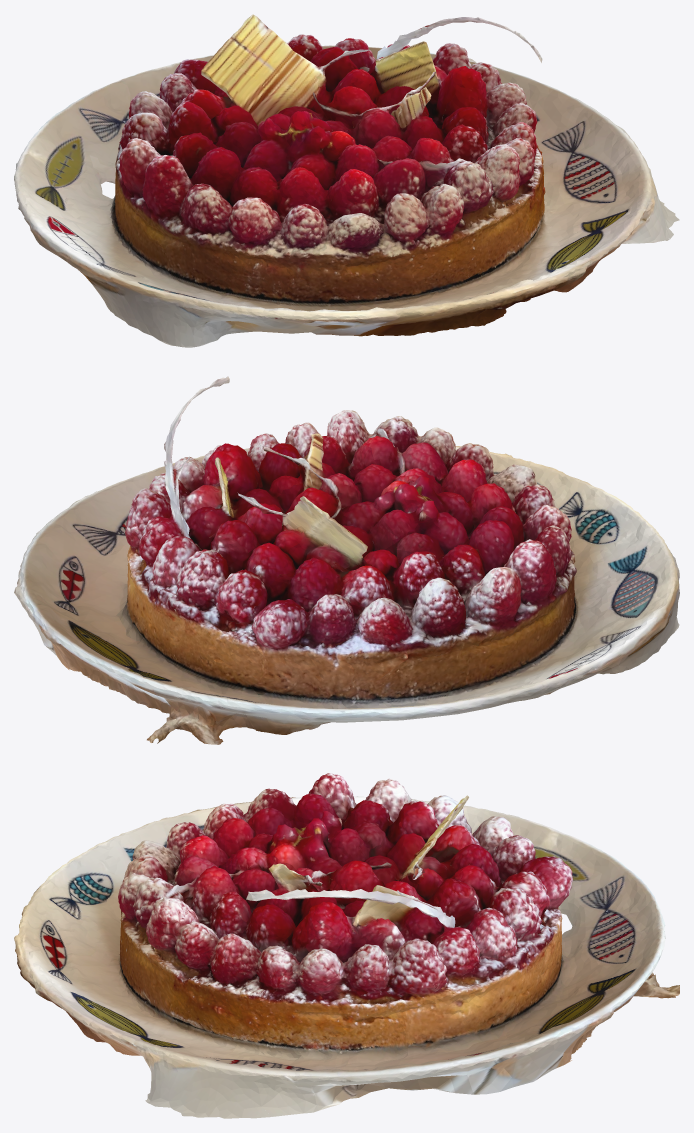
File: tarta-frambuesa.glb
The picture shows the model from 3 angles, top to bottom: view 1: azimuth 30°, elevation 25°; view 2: azimuth 150°, elevation 25°; view 3: azimuth 270°, elevation 25°; orthographic projection. The views are drawn at different scales.
Visible parts, largest first — view 1: Object_4; view 2: Object_4; view 3: Object_4.
Boxes of the visible parts, bbox=[...] form: Object_4: bbox=[14, 14, 679, 347]; Object_4: bbox=[14, 376, 679, 744]; Object_4: bbox=[14, 773, 679, 1118].
Size of the model in its own units: 0.266 by 0.0795 by 0.27.
Materials: 1 (1 with a texture image).
